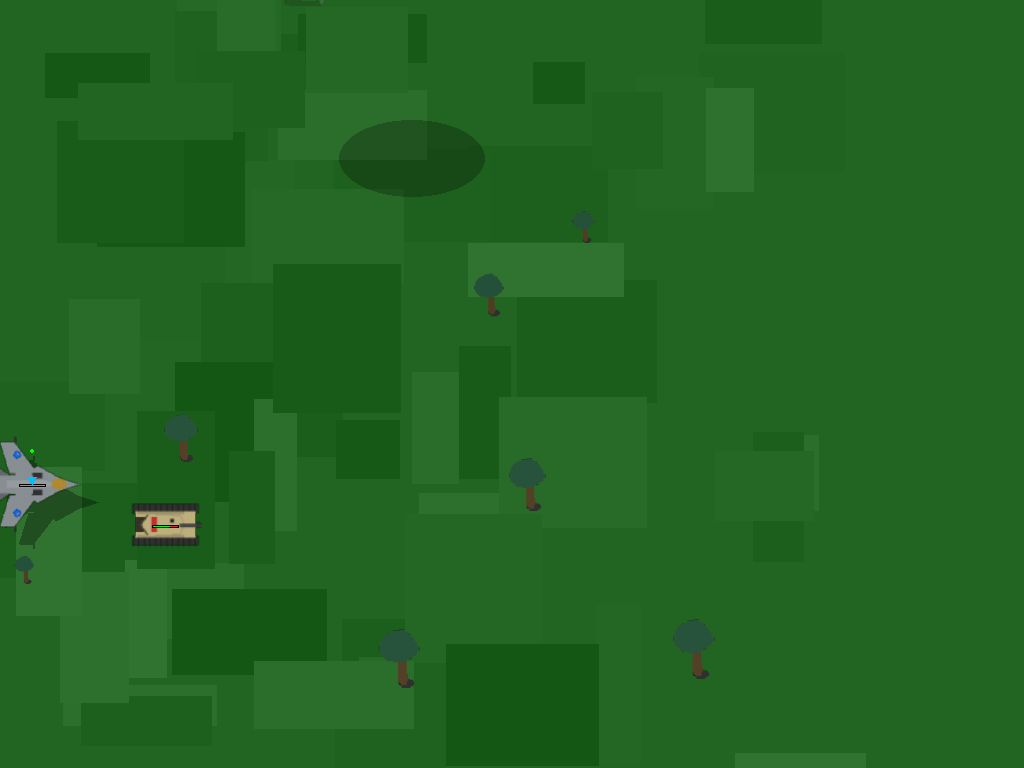FighterJet_rus: (276, 22, 436, 182)
ResearchCenter: (2, 454, 60, 512)
WZ10: (133, 491, 197, 555)
